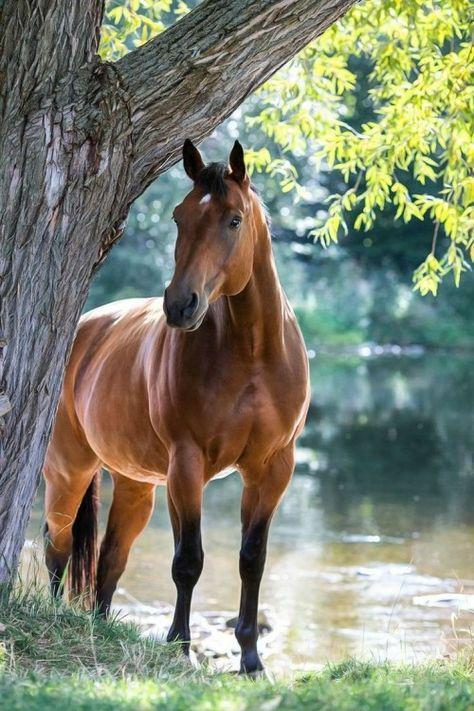horse: (41, 136, 311, 677)
